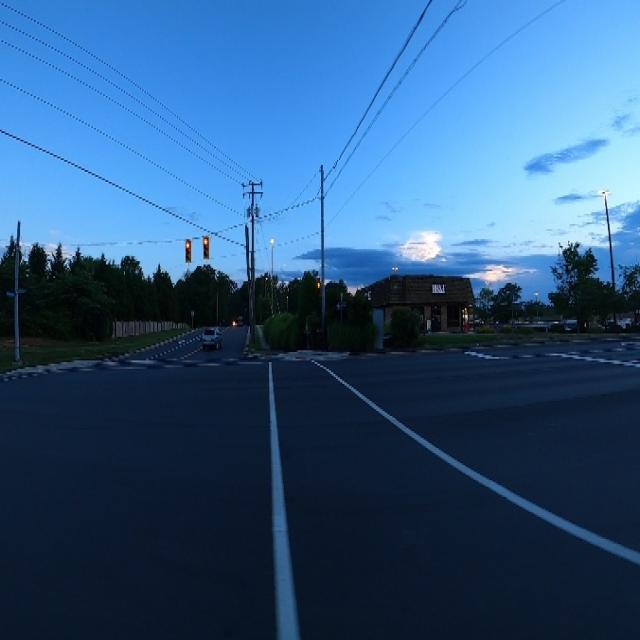cars: (200, 323, 224, 352), (234, 312, 245, 329)
